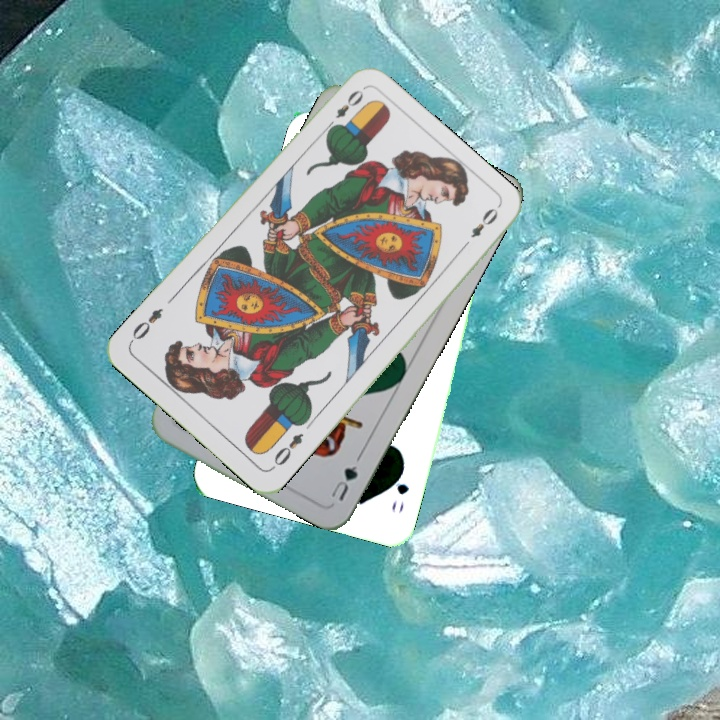EO: (321, 85, 366, 134), (267, 429, 306, 472)
GO: (387, 462, 412, 516)
GU: (326, 452, 364, 504)
